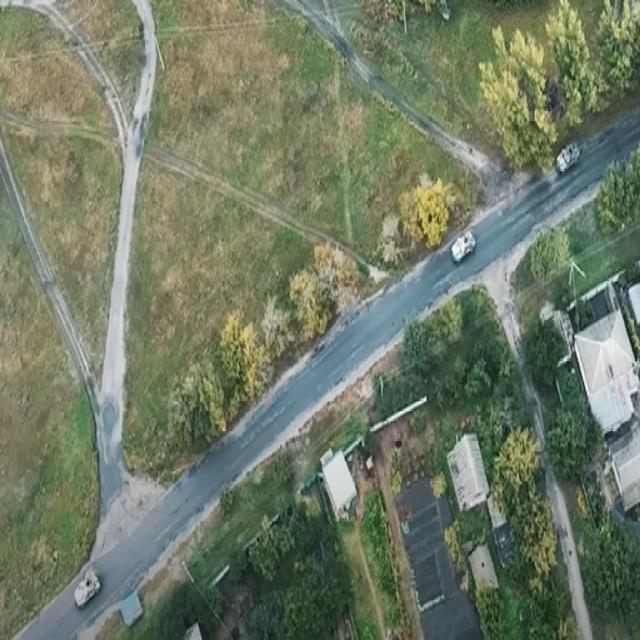CAR: (70, 558, 105, 611), (448, 218, 482, 266), (551, 131, 584, 180)
